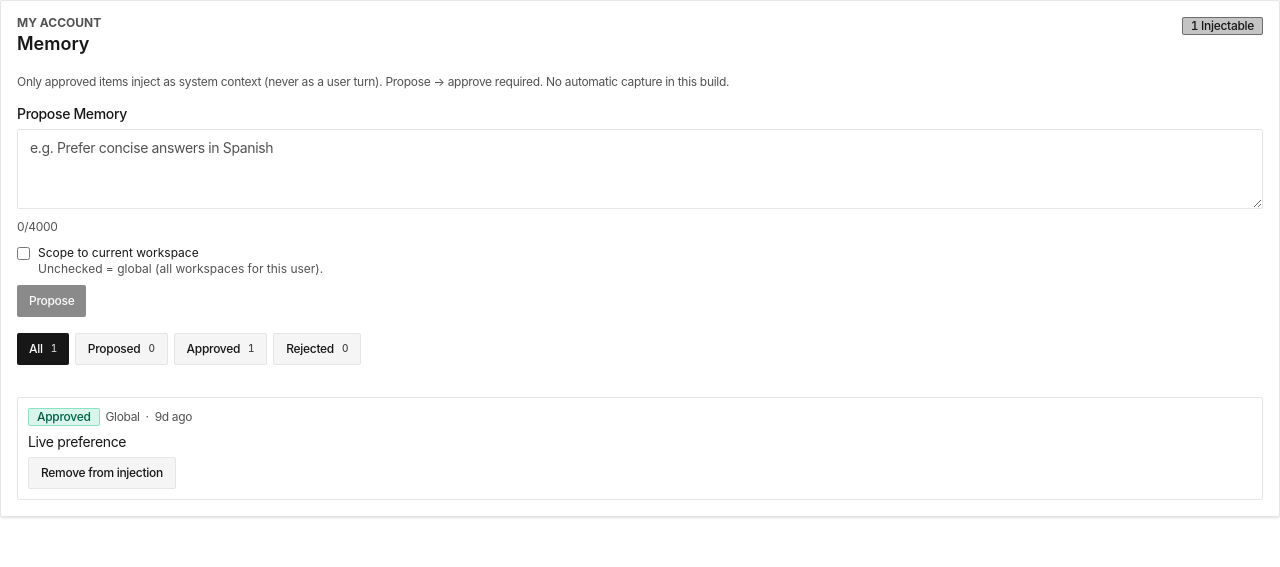
Test case: UserMemoryPanel › offers Undo after soft-remove and restores via approve
Expected: the text "Live preference" is shown, [28,432,126,450]
Click the button "Remove from injection" at point(102, 473), box [28,457,176,489]
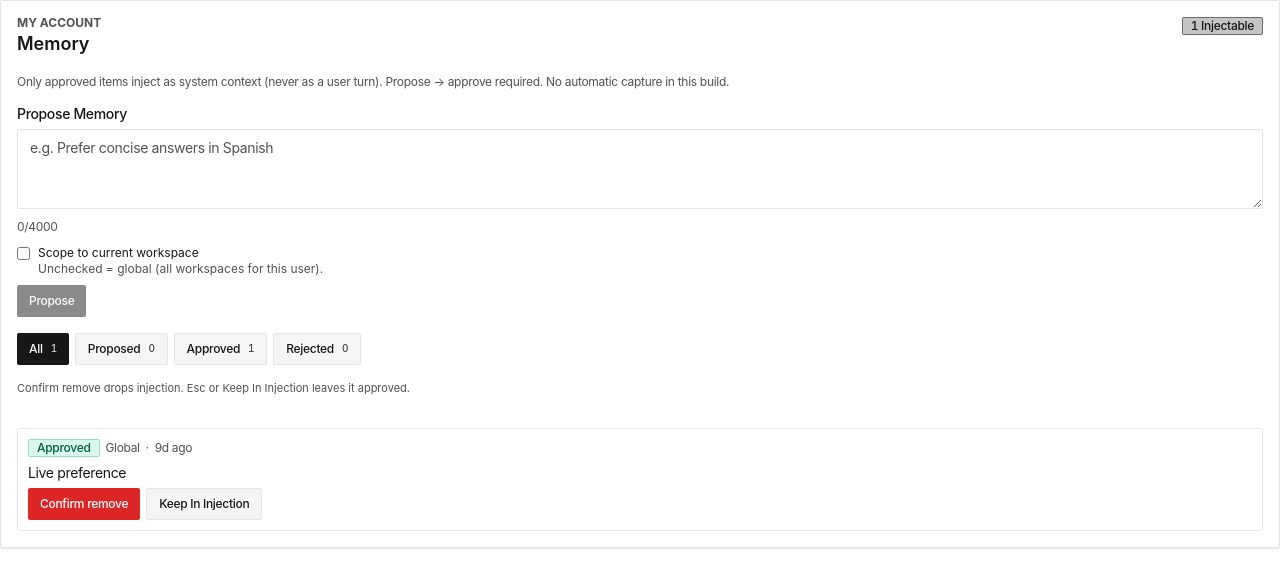
Click the button "Confirm remove" at point(84, 504), box [28,488,140,520]
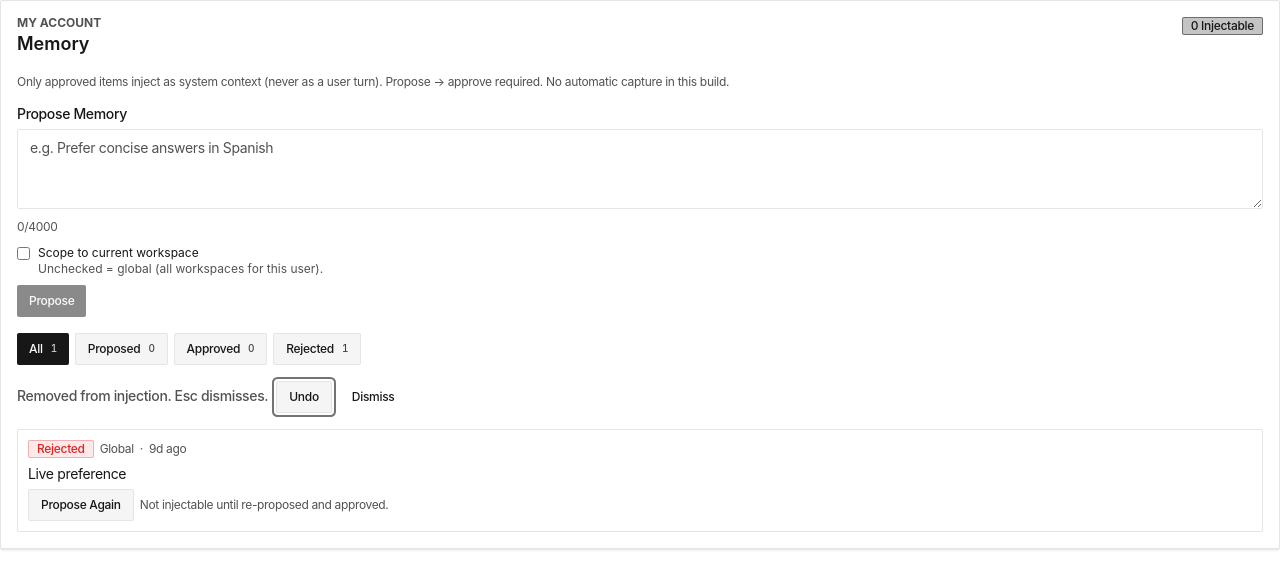
Result: the text "Removed from injection. Esc dismisses." is shown at [17,385,268,408]
Click the button with aria-label "Undo remove from injection" at point(304, 396), box [276,380,332,412]
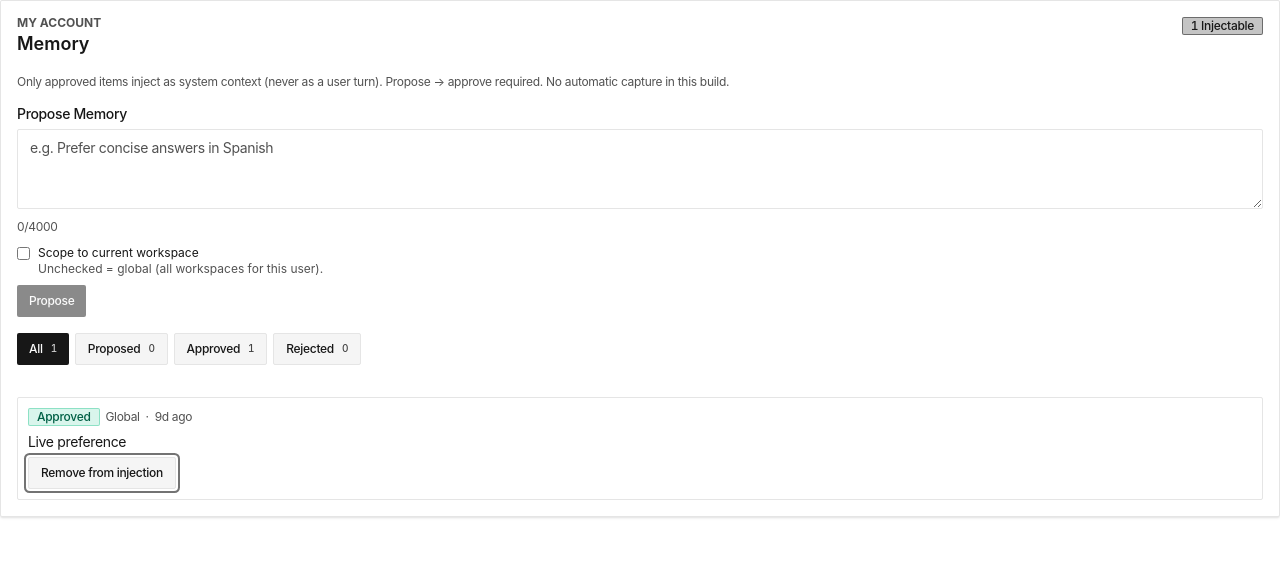
Result: the text "1 Injectable" is shown at [1182,17,1263,35]
Result: the text "Removed from injection" is gone
